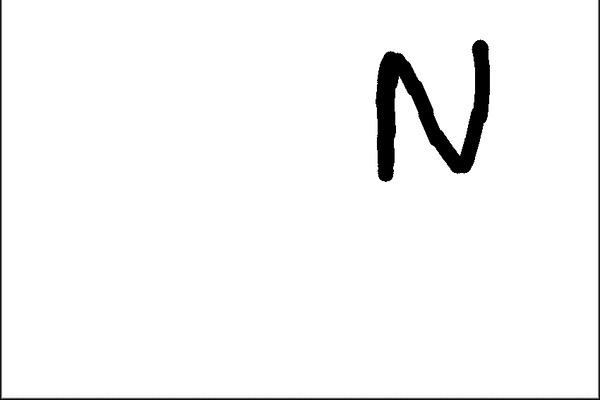N: (365, 33, 497, 189)
